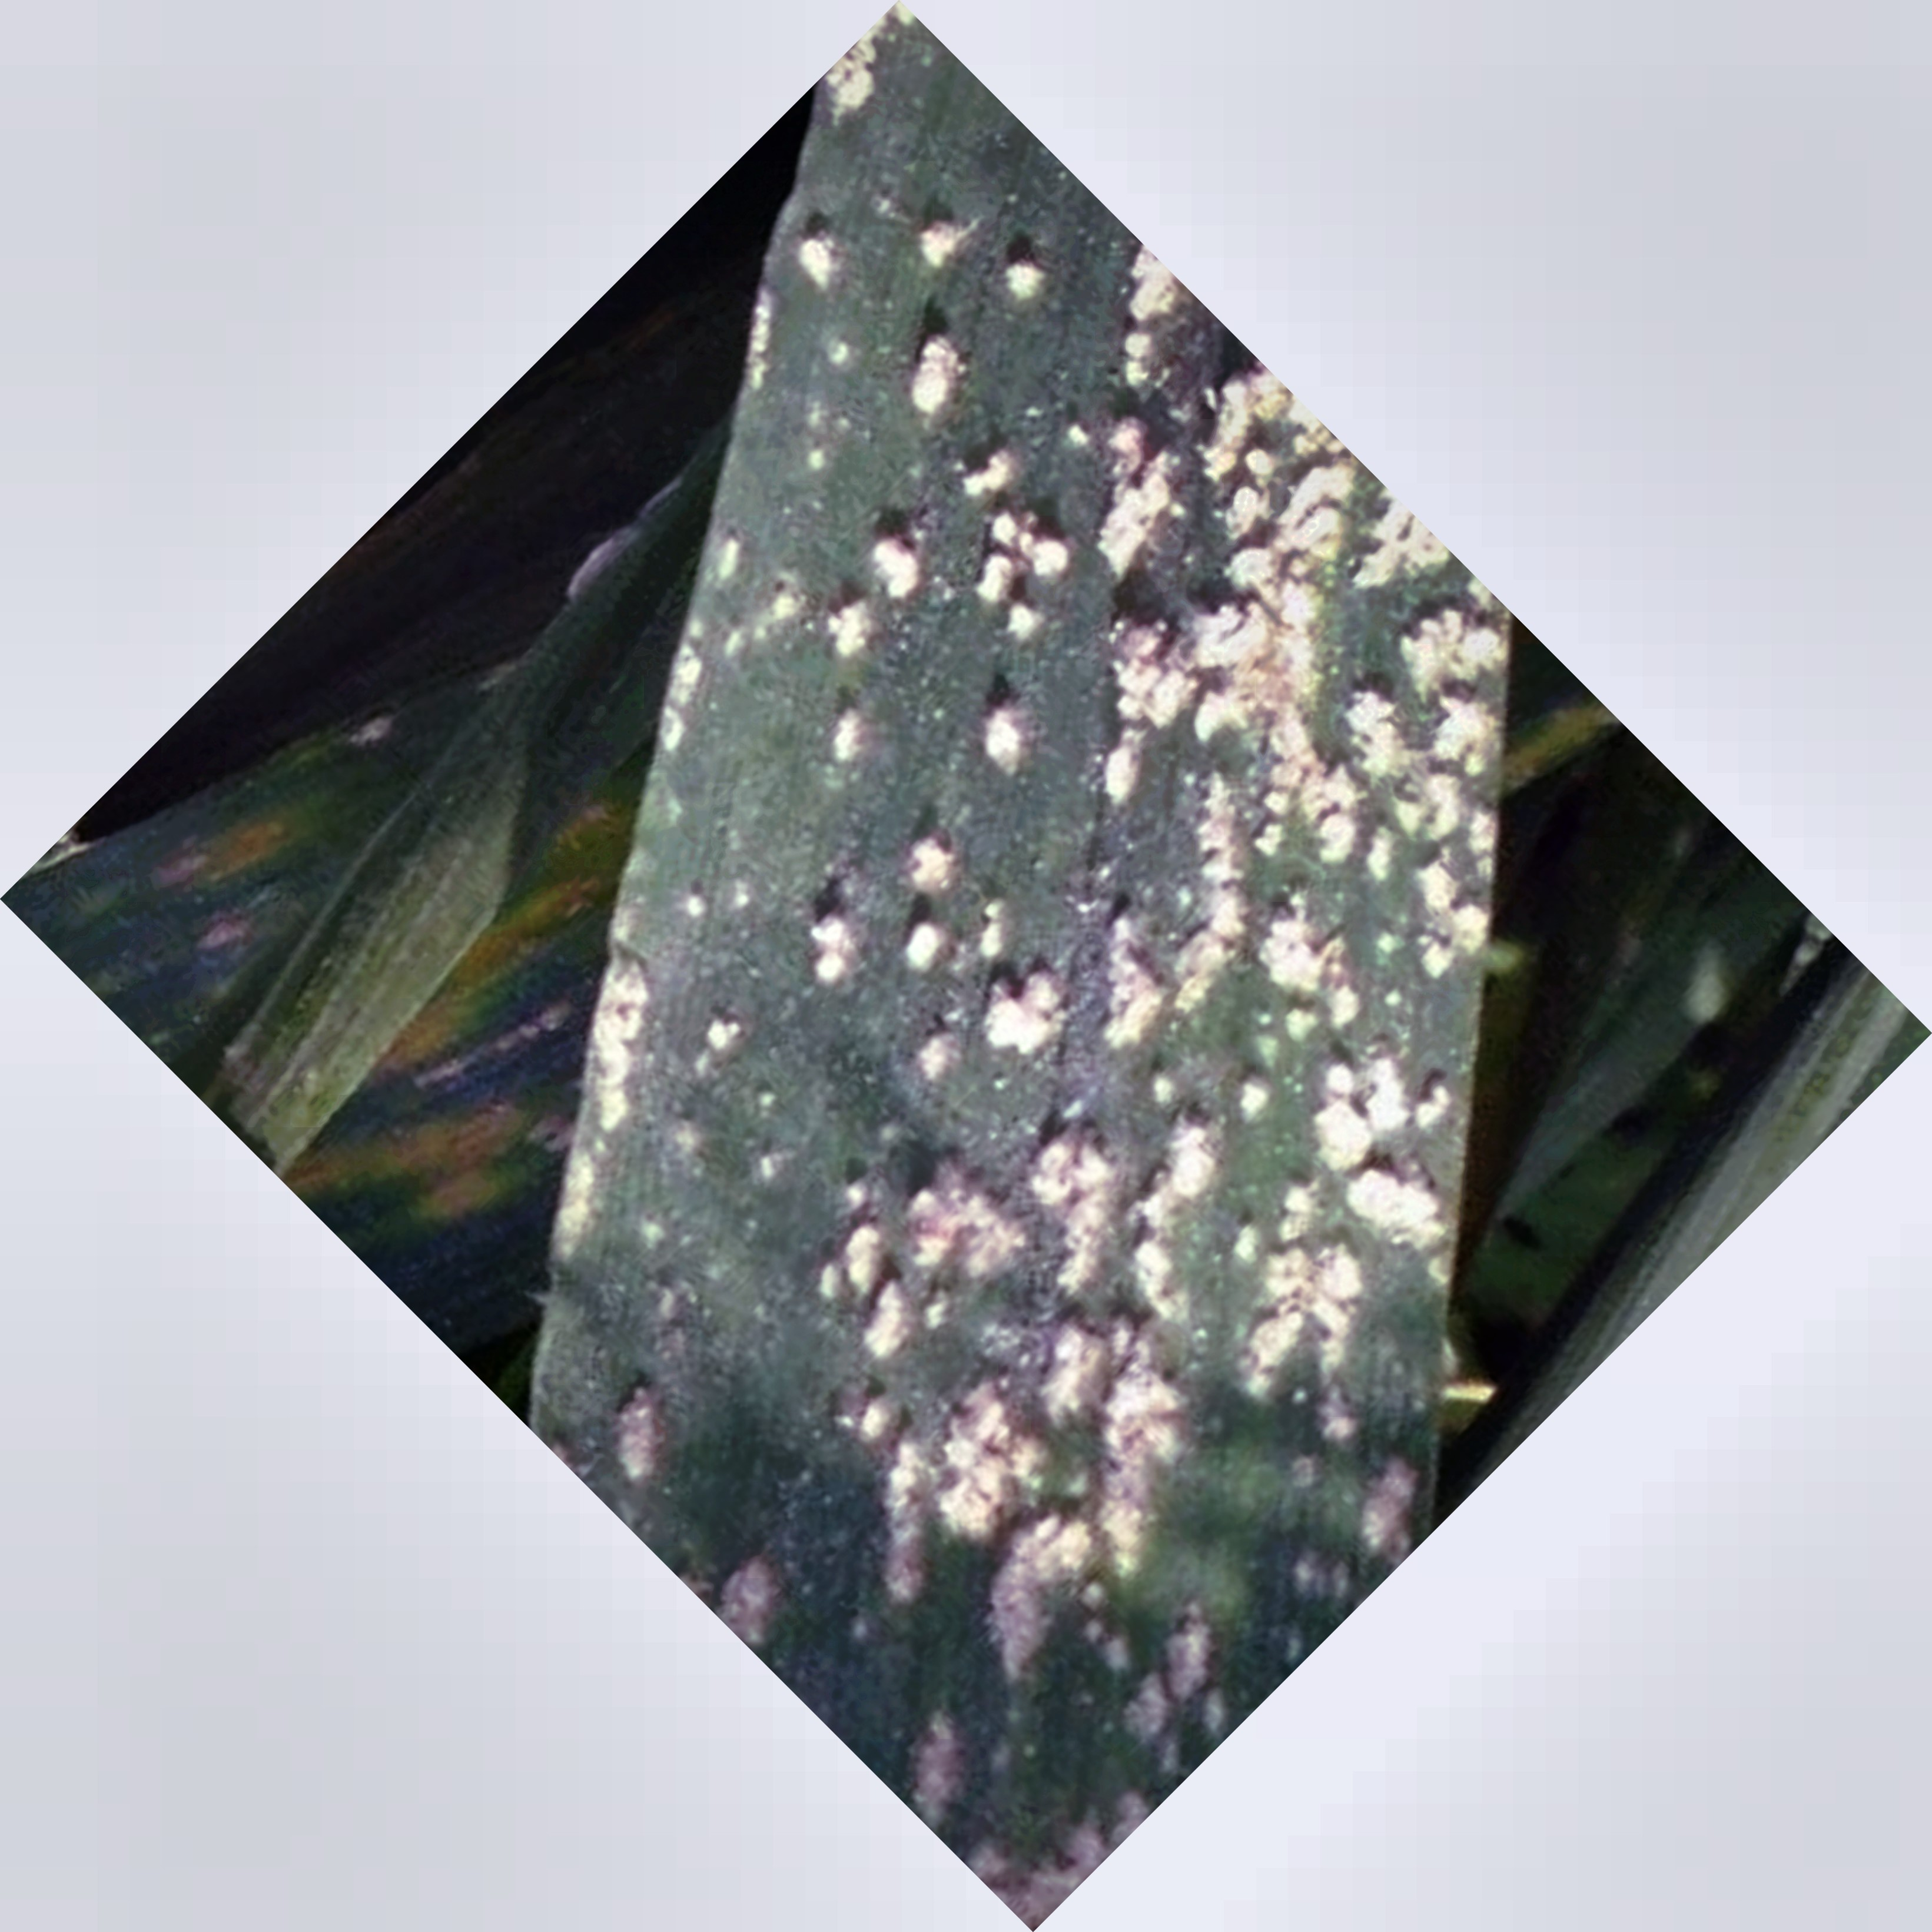Powdery Mildew: (702, 359, 1484, 1537)
